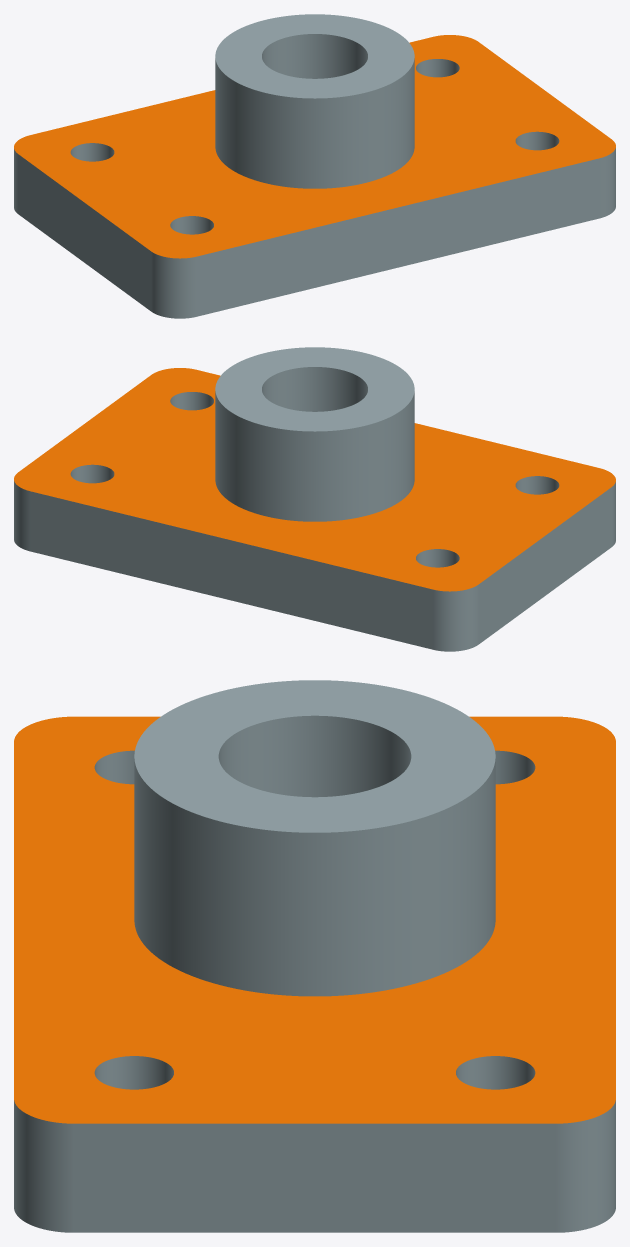
File: demo_bracket.glb
The picture shows the model from 3 angles, top to bottom: view 1: azimuth 30°, elevation 25°; view 2: azimuth 150°, elevation 25°; view 3: azimuth 270°, elevation 25°; orthographic projection. The views are drawn at different scales.
Visible parts, largest first — view 1: demo_bracket; view 2: demo_bracket; view 3: demo_bracket.
Part boxes in pixels (<box>): demo_bracket: <box>14,14,615,318</box>; demo_bracket: <box>14,347,615,651</box>; demo_bracket: <box>14,680,615,1232</box>.
Size of the model in its own units: 80 by 25 by 50.
